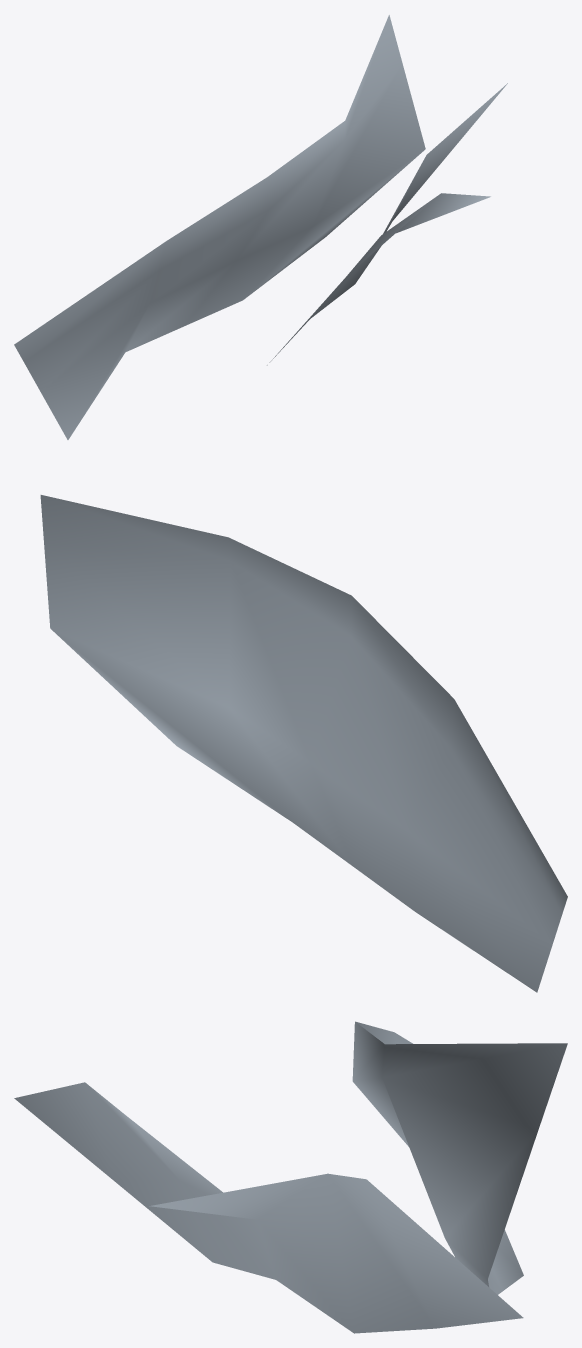
File: talocalcaneal-interosseous-ligament-r.glb
The picture shows the model from 3 angles, top to bottom: view 1: azimuth 30°, elevation 25°; view 2: azimuth 150°, elevation 25°; view 3: azimuth 270°, elevation 25°; orthographic projection. The views are drawn at different scales.
Visible parts, largest first — view 1: Talocalcaneal interosseous ligament.r; view 2: Talocalcaneal interosseous ligament.r; view 3: Talocalcaneal interosseous ligament.r.
Boxes of the visible parts, x1,y1,x2,y2 form: Talocalcaneal interosseous ligament.r: (14,15,507,439); Talocalcaneal interosseous ligament.r: (40,495,567,992); Talocalcaneal interosseous ligament.r: (14,1021,567,1333).
Bounding box in the file's own units: 0.0207 × 0.013 × 0.0112.
